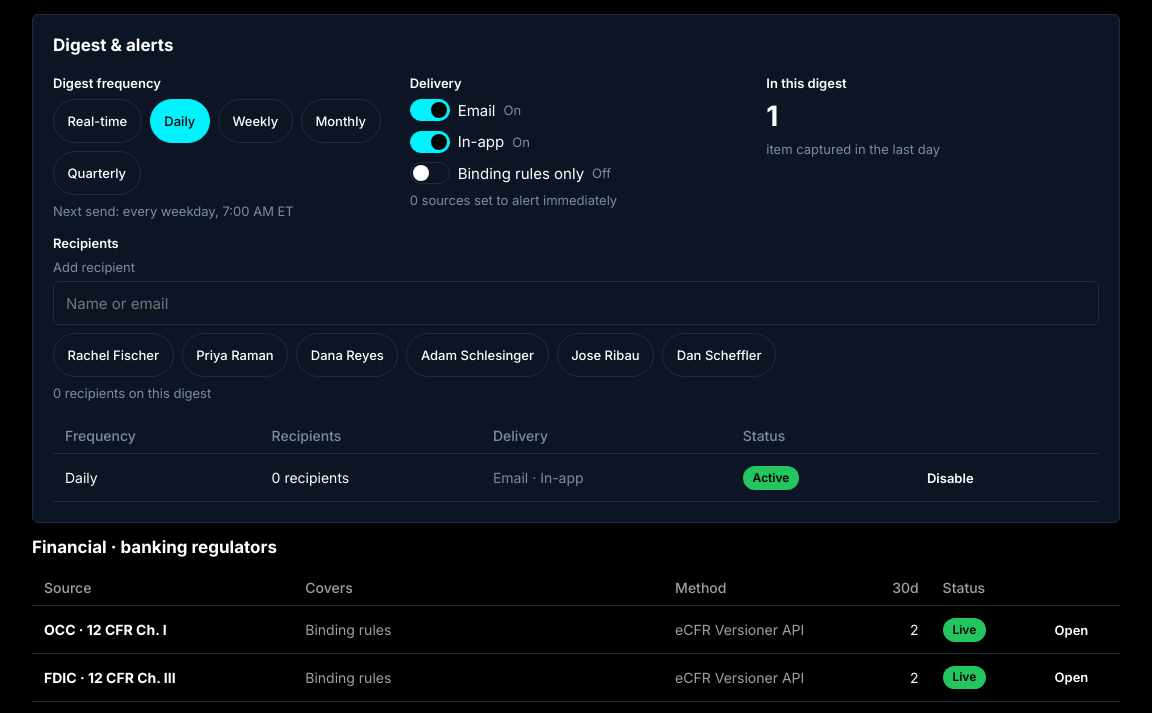
Test: Settings · Toggles — digest recipients (D7: AD roster, Chip filter reuse) › pressing an already-selected roster Chip removes that recipient (remove-recipient, D7 cap)
This screenshot has width=1152, height=713.
(page scrolled)
Click the button "Priya Raman".
click(235, 355)  # box 182,333 -> 288,377
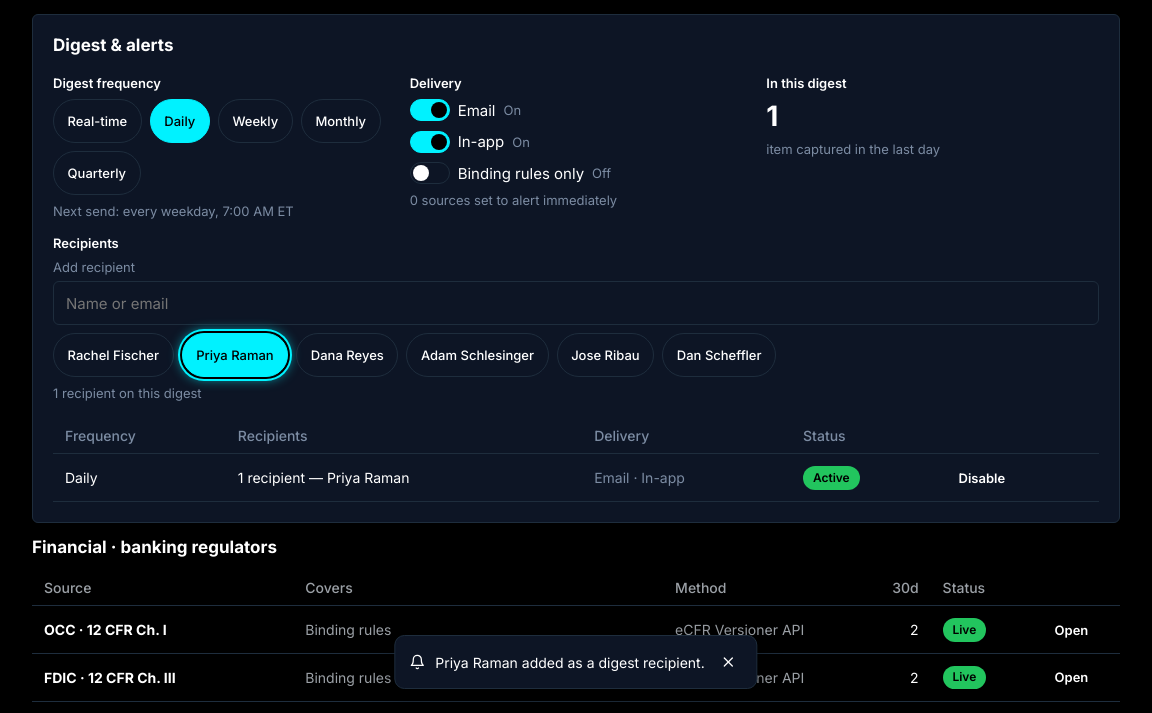
Click the button "Priya Raman".
click(235, 355)  # box 182,333 -> 288,377
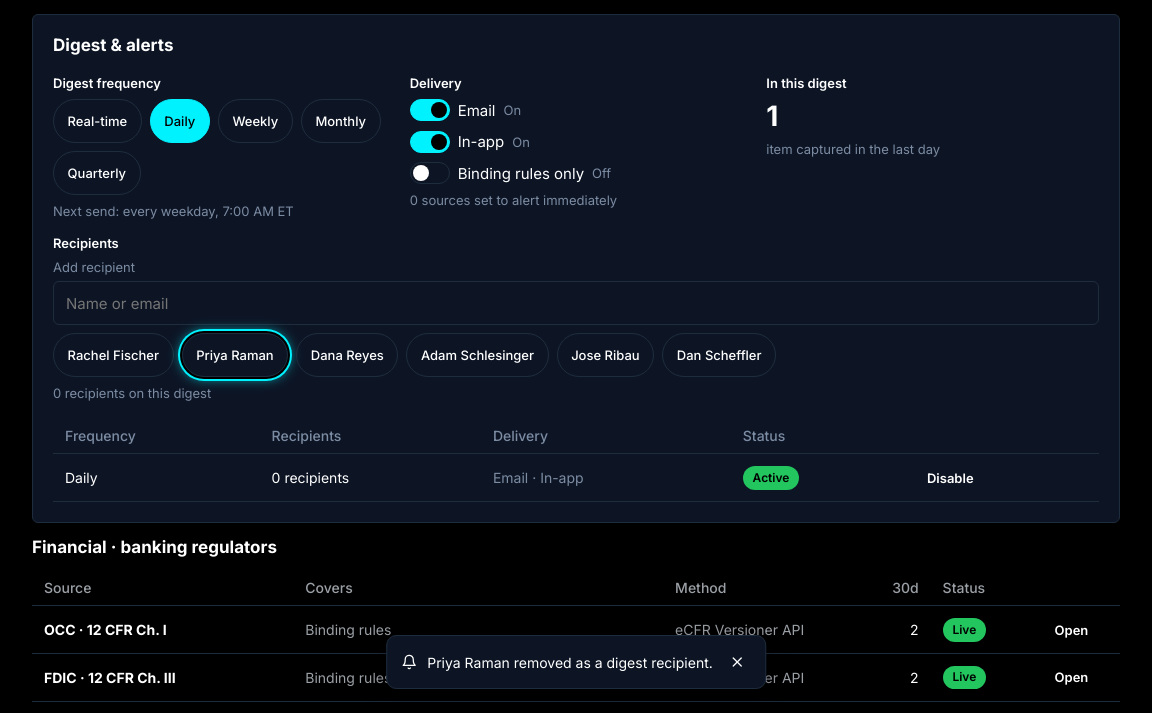
Check: the text "0 recipients on this digest" is shown, box 53,385 -> 211,401
Check: the text "Priya Raman removed as a digest recipient." is shown, box 427,654 -> 713,670
